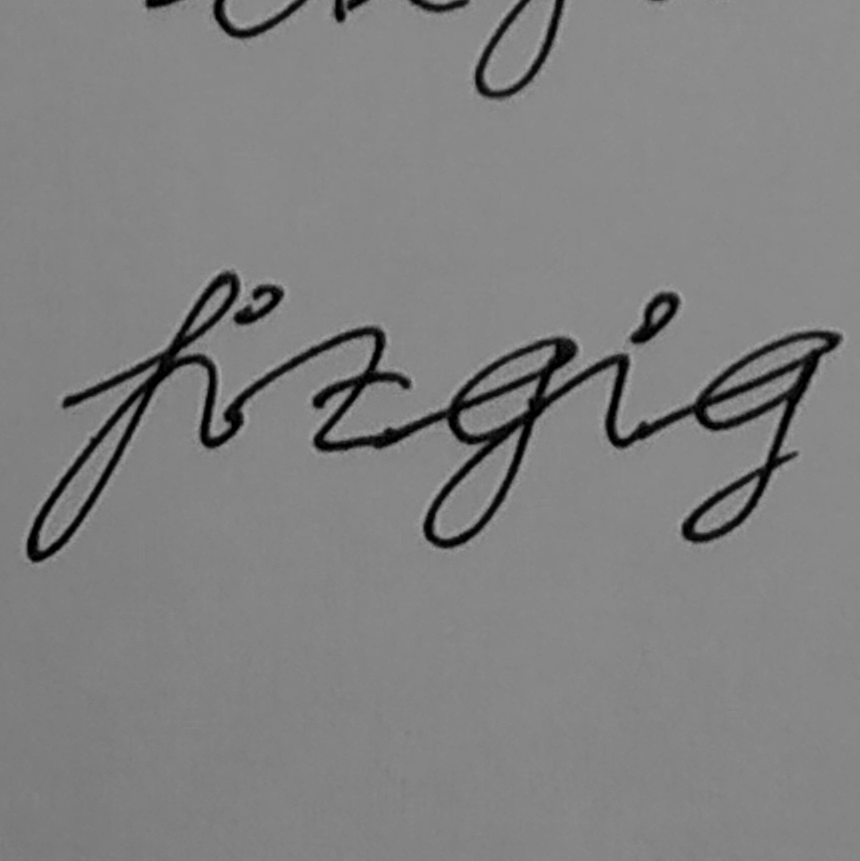f: (22, 264, 242, 566)
g: (675, 325, 846, 546), (420, 331, 581, 554)
i: (196, 279, 287, 454), (597, 285, 682, 452)
z: (299, 321, 417, 455)
